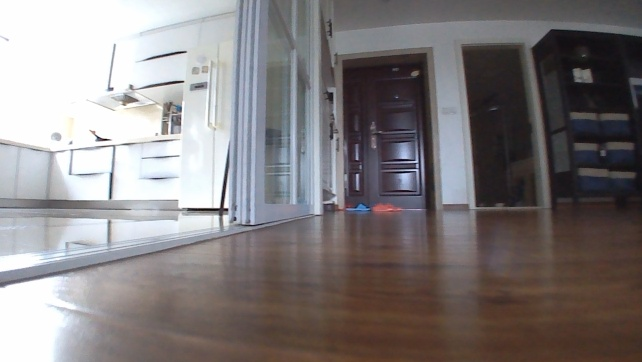dining_table: (0, 133, 180, 212)
door_anno: (332, 44, 445, 217)
refrigerator: (176, 37, 236, 214)
slipper: (345, 202, 370, 212)
